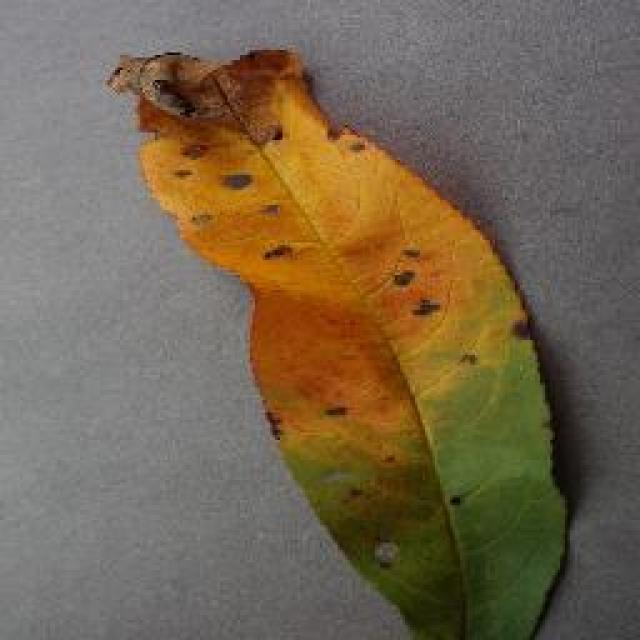Peach_Bacterial_Spot: (115, 55, 503, 360)
